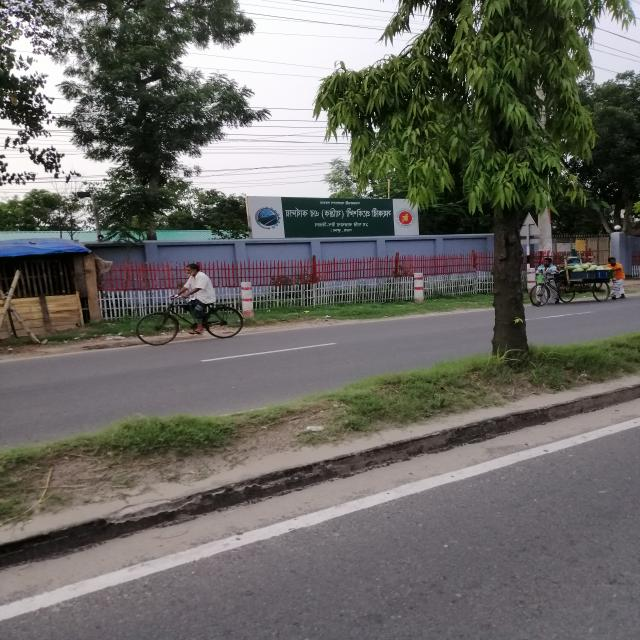Bicycle: (124, 290, 253, 350)
